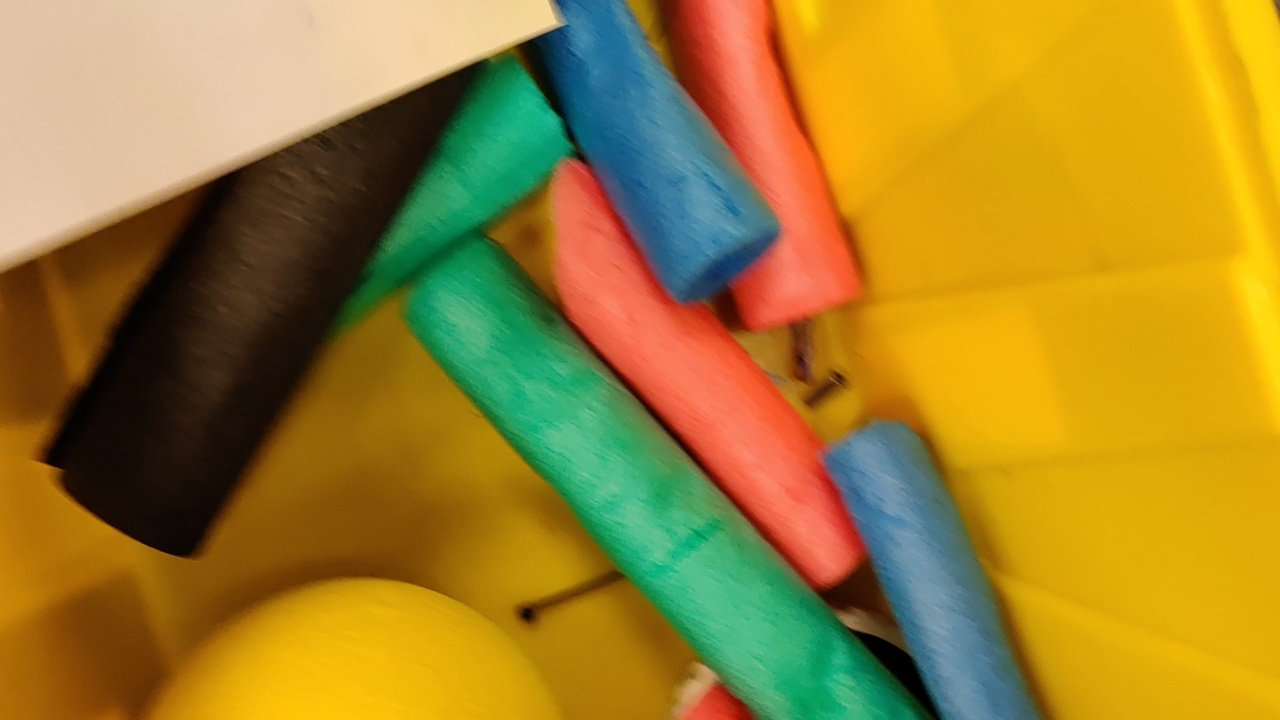Ball: (142, 574, 562, 720)
